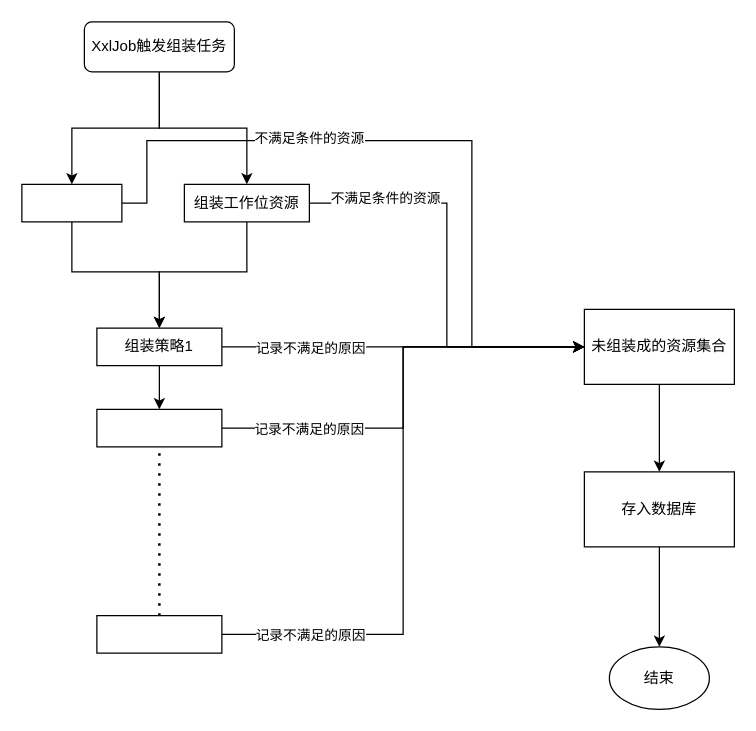
The diagram is 756 pixels wide and 731 high, and some of its shapes have lost their labels. Each missing label, with the box of its shape:
组装料架资源: (21, 183, 122, 222)
组装策略2: (96, 408, 222, 447)
组装策略n: (96, 614, 222, 653)
